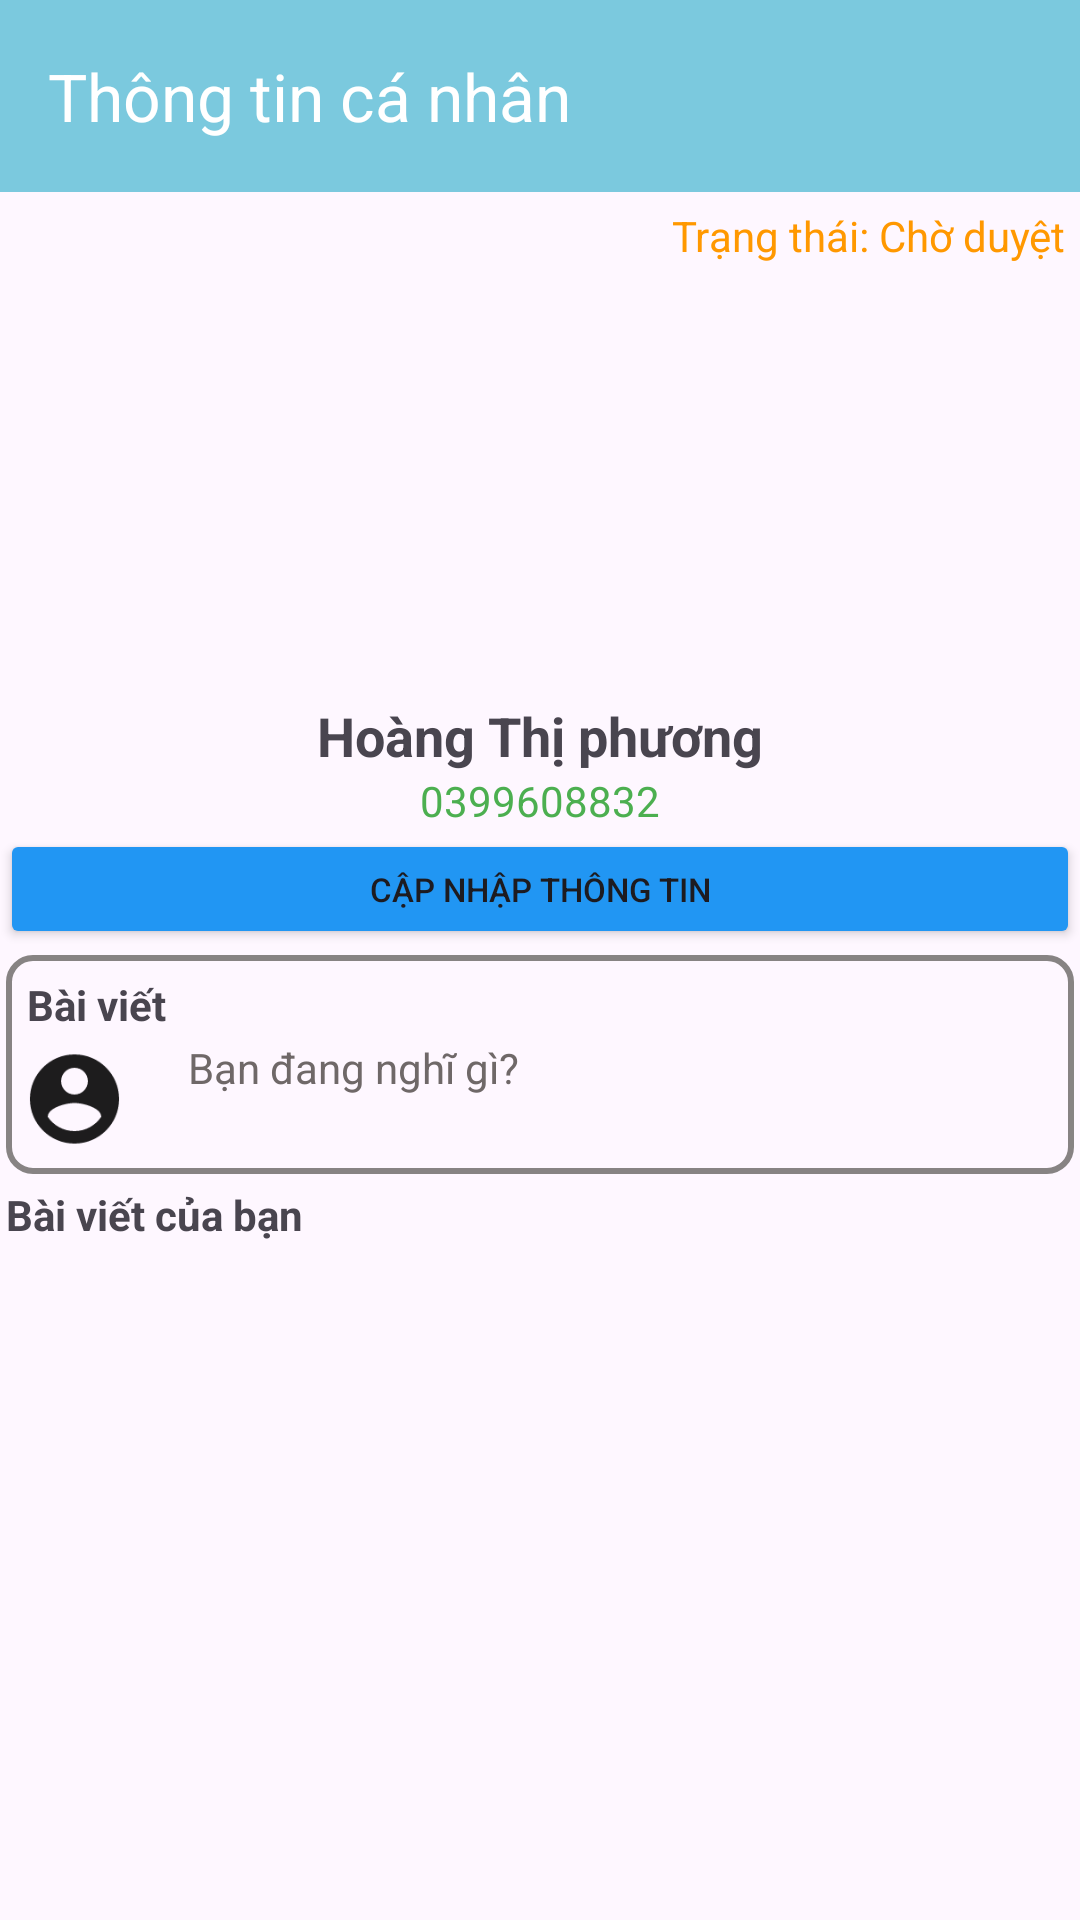

Where to tap for icons on this 1080×1920 app screen, as [x,y]:
account circle: [74,1099]
